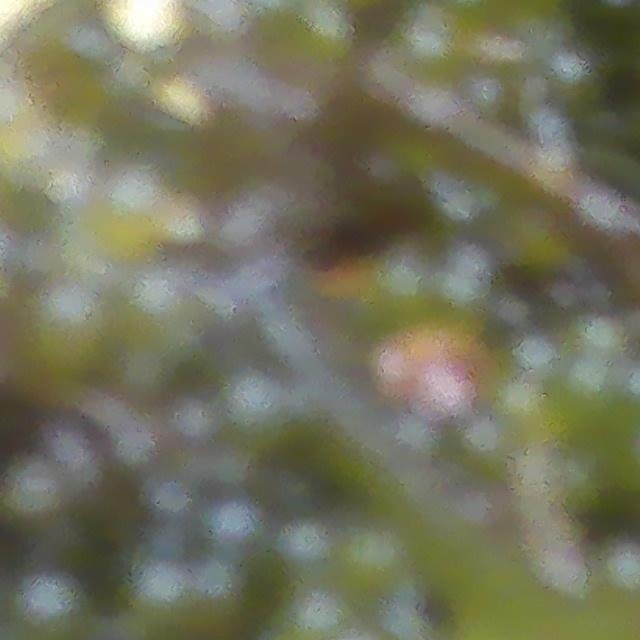SeaGrape: (15, 572, 80, 632)
